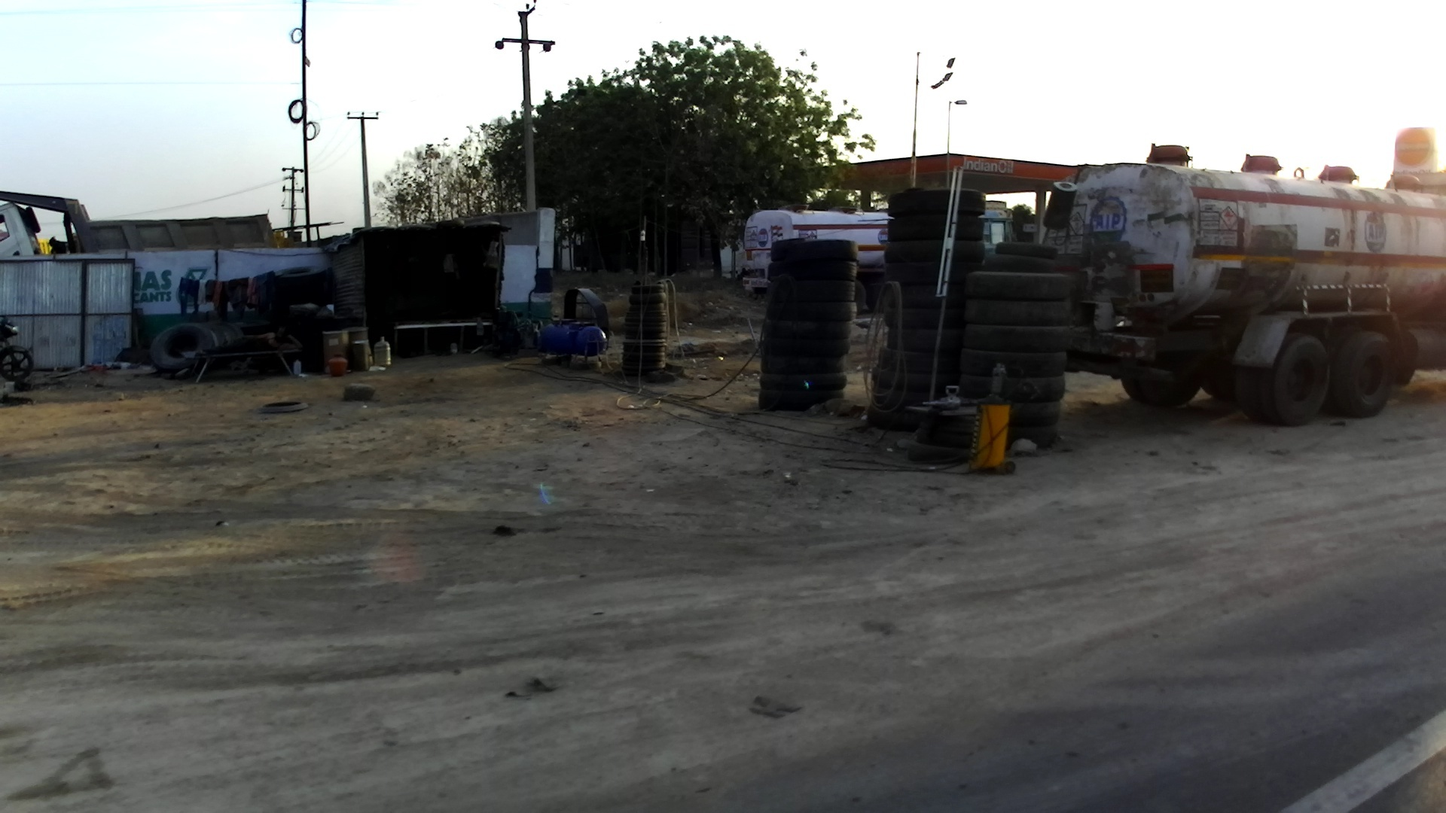motorcycle: (3, 310, 35, 382)
truck: (1044, 144, 1444, 440), (737, 187, 1017, 313), (1, 181, 285, 269)
